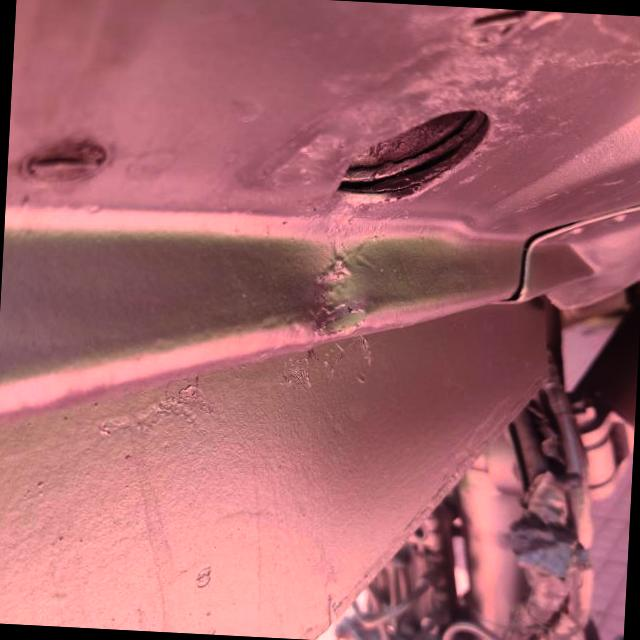dent: (267, 227, 395, 368)
